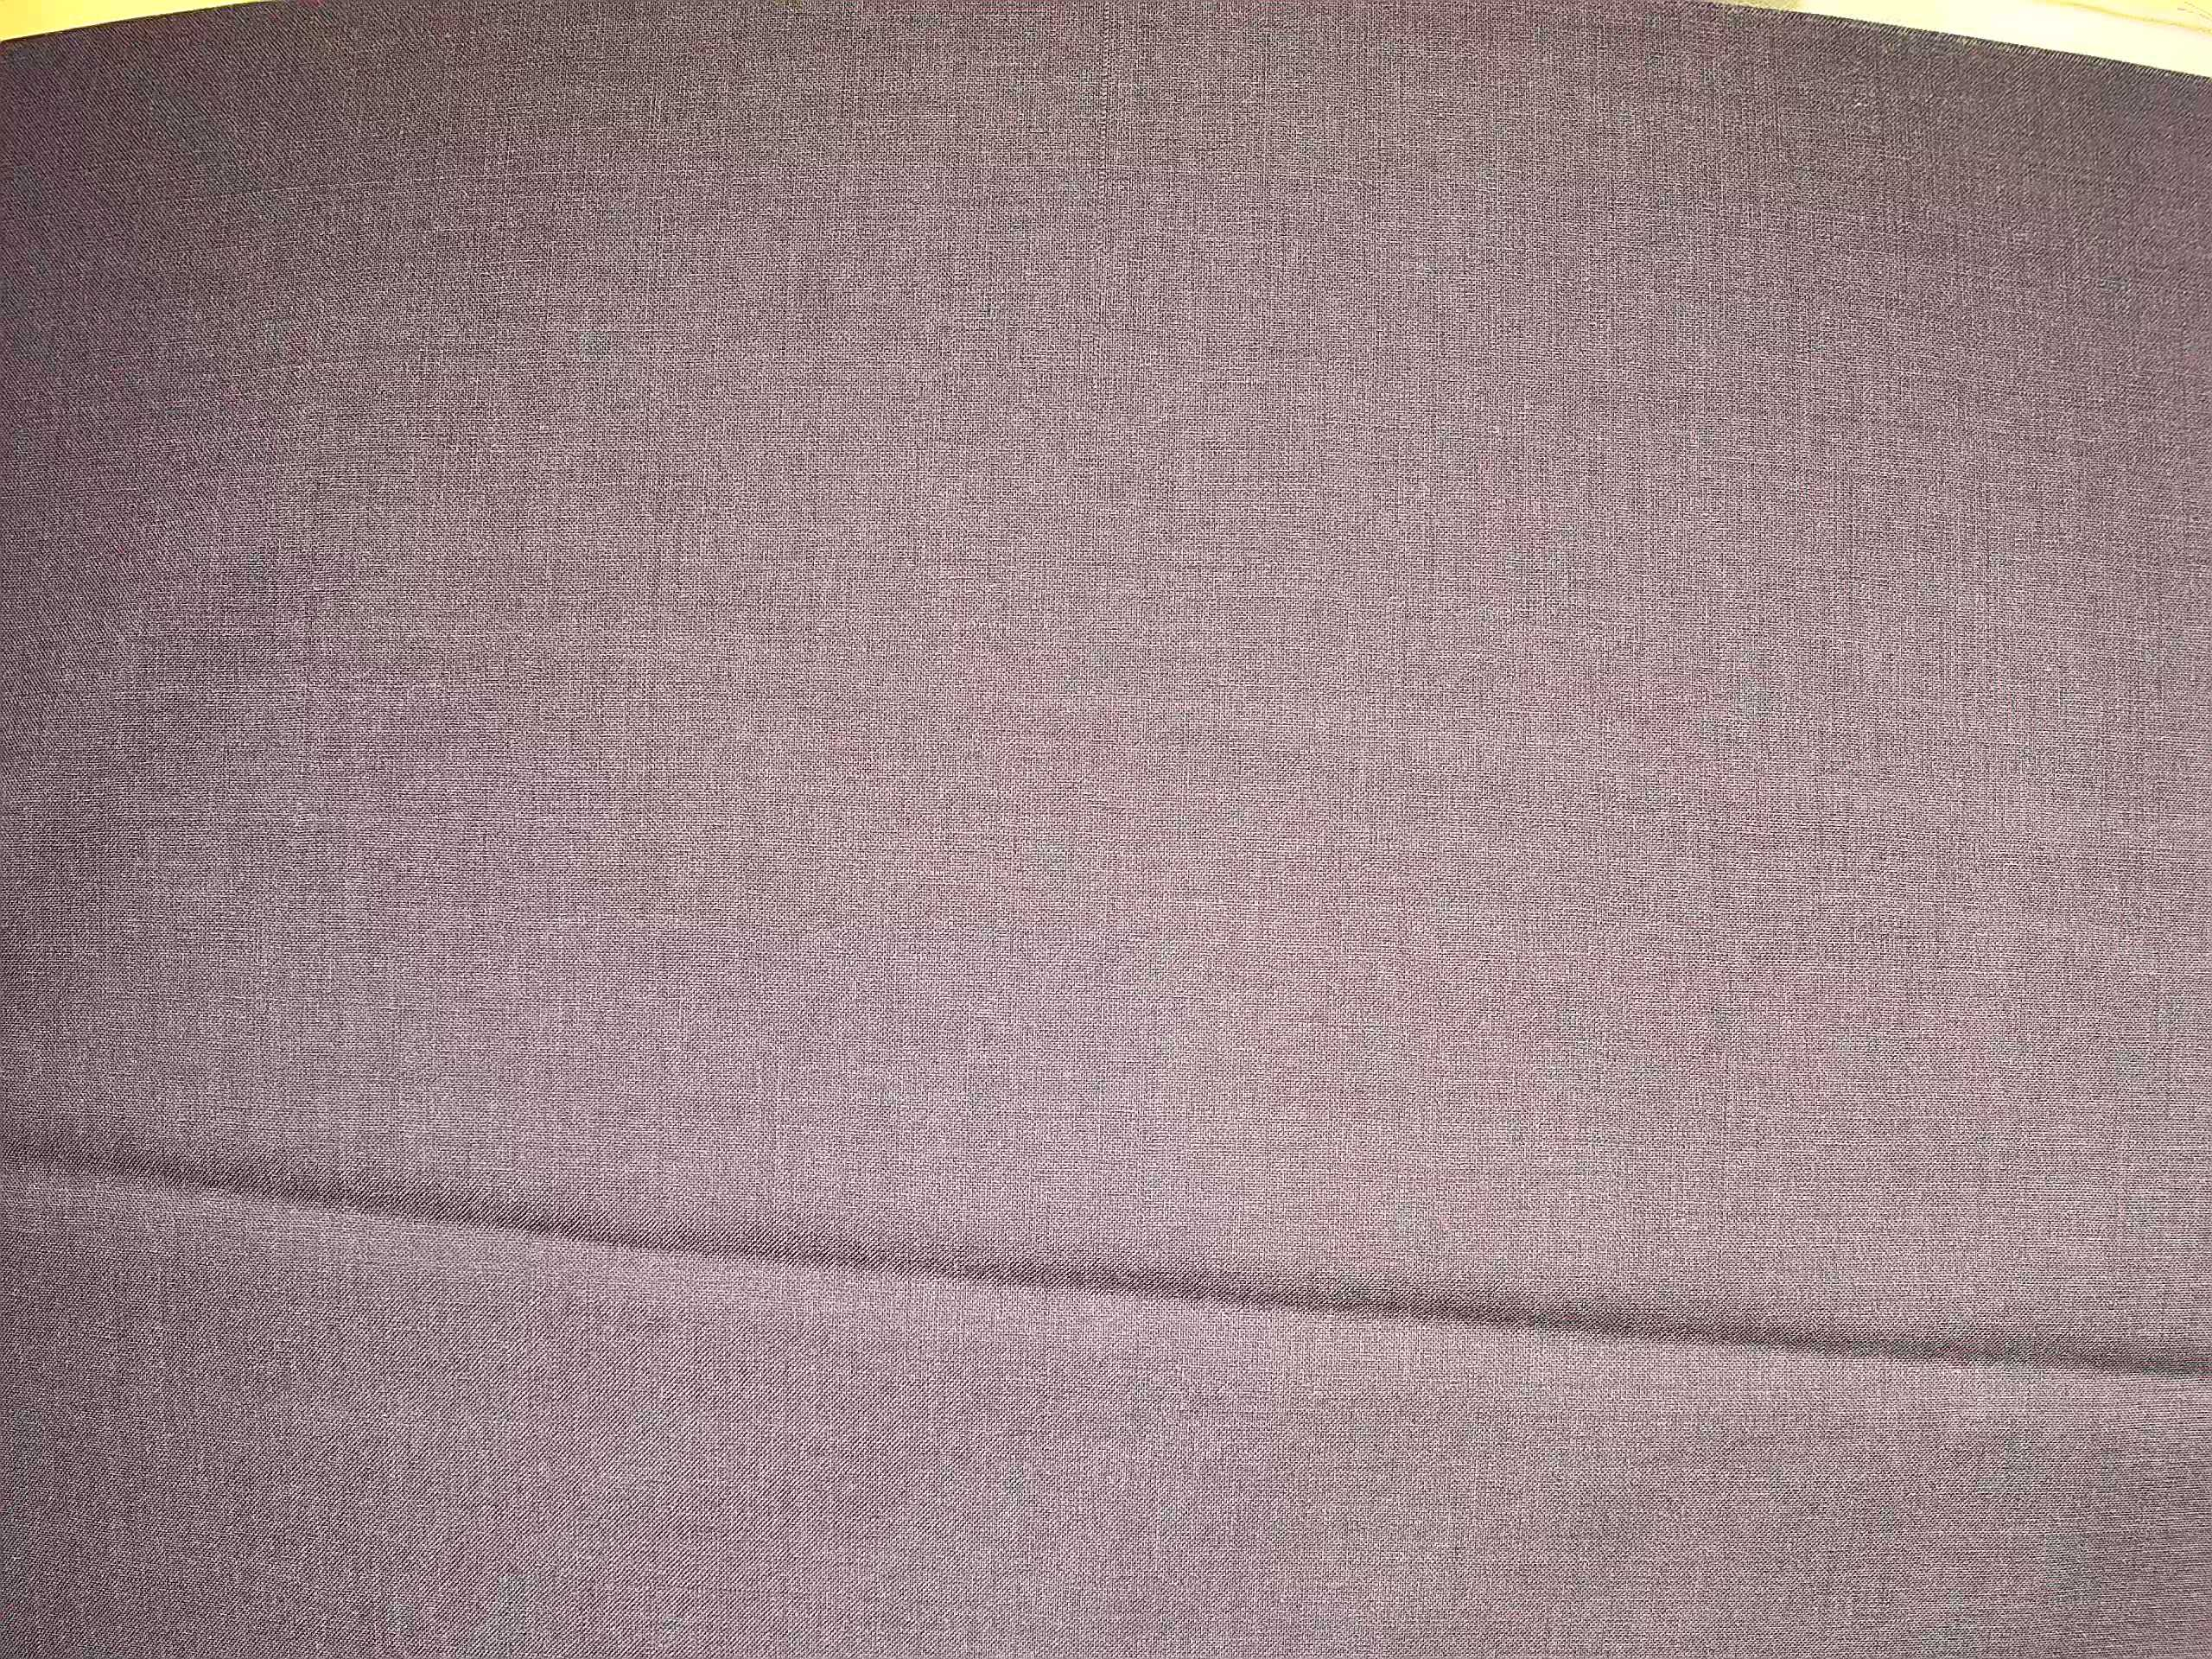others: (1076, 5, 1122, 446)
